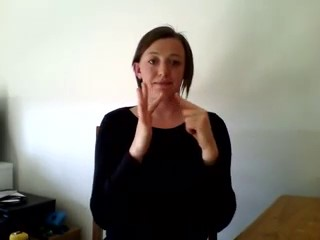E: (133, 79, 217, 147)
